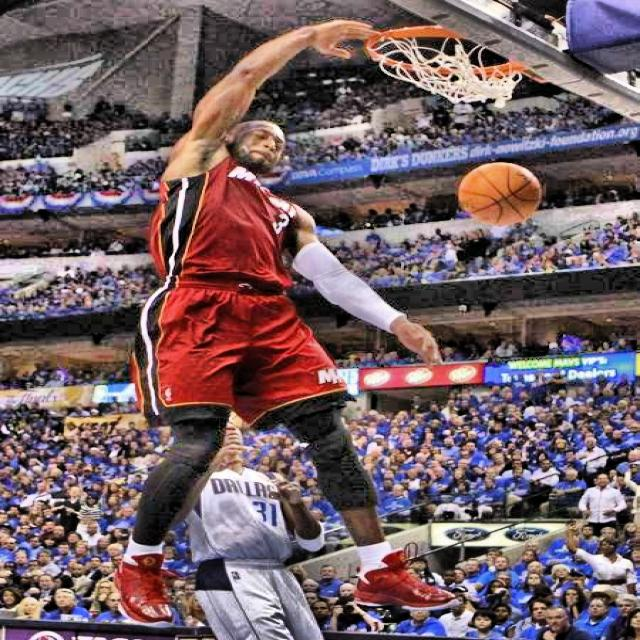board: (456, 161, 542, 226)
